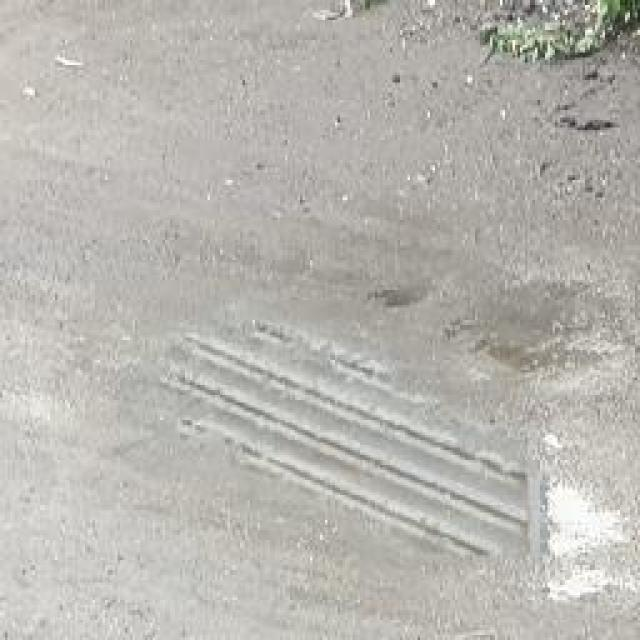waterlogging: (397, 248, 640, 386)
